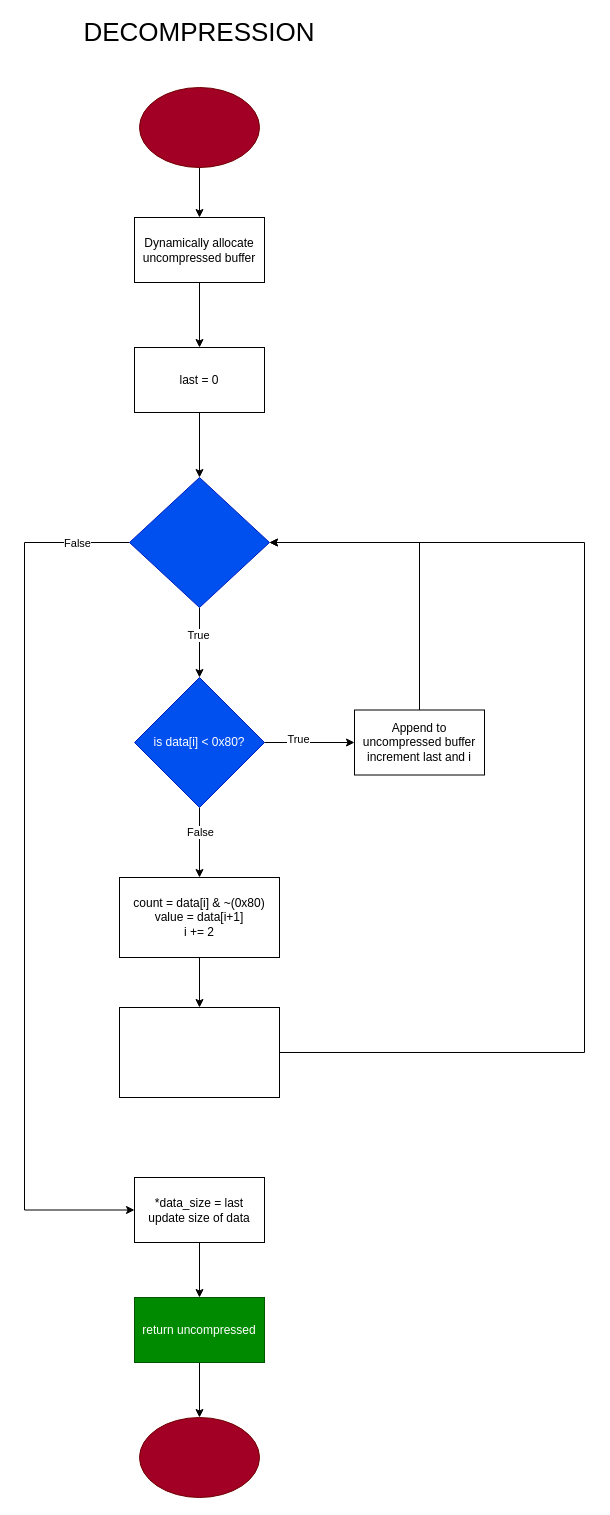
Image size: 610x1515. Some labels were removed from this diagram. The centre of each missing label's shape, as x and y in pixels:
Append value to uncompressed "count" number of times Increment last accordingly: the point at 199,1052
END: the point at 199,1457
for loop while i is less than data_size: the point at 199,542
START: the point at 199,127
